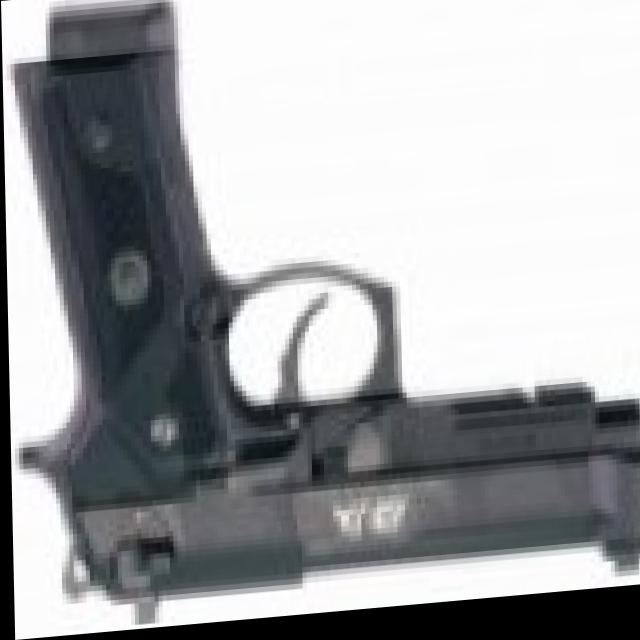handgun: (17, 25, 640, 634)
